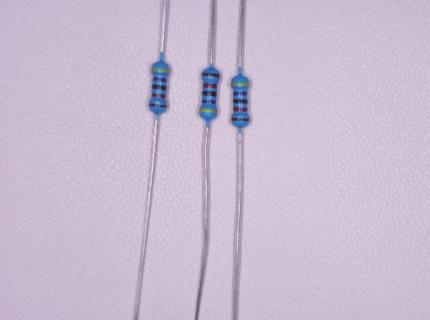Black band: (152, 85, 167, 90), (203, 91, 217, 96), (234, 99, 247, 104)
Brown band: (150, 103, 167, 108), (203, 73, 219, 77), (232, 118, 249, 121)
Red band: (152, 93, 166, 98), (204, 83, 217, 88), (234, 107, 248, 111)
Violet band: (154, 78, 167, 82), (203, 100, 216, 104), (234, 92, 247, 95)
Yellow band: (151, 68, 169, 72), (231, 82, 249, 86), (199, 109, 216, 113)
